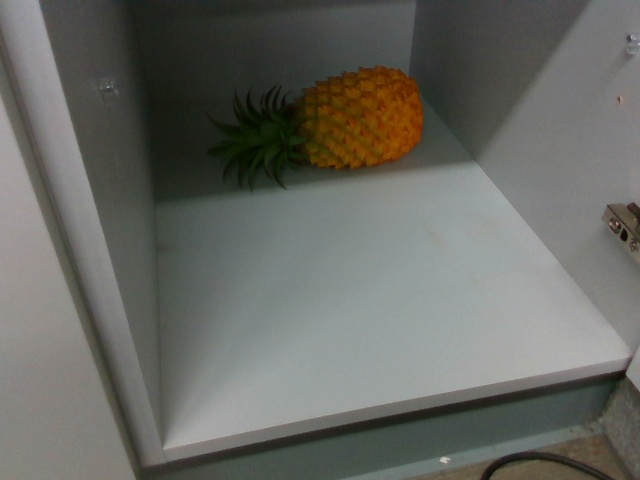pineapple: (202, 61, 433, 188)
